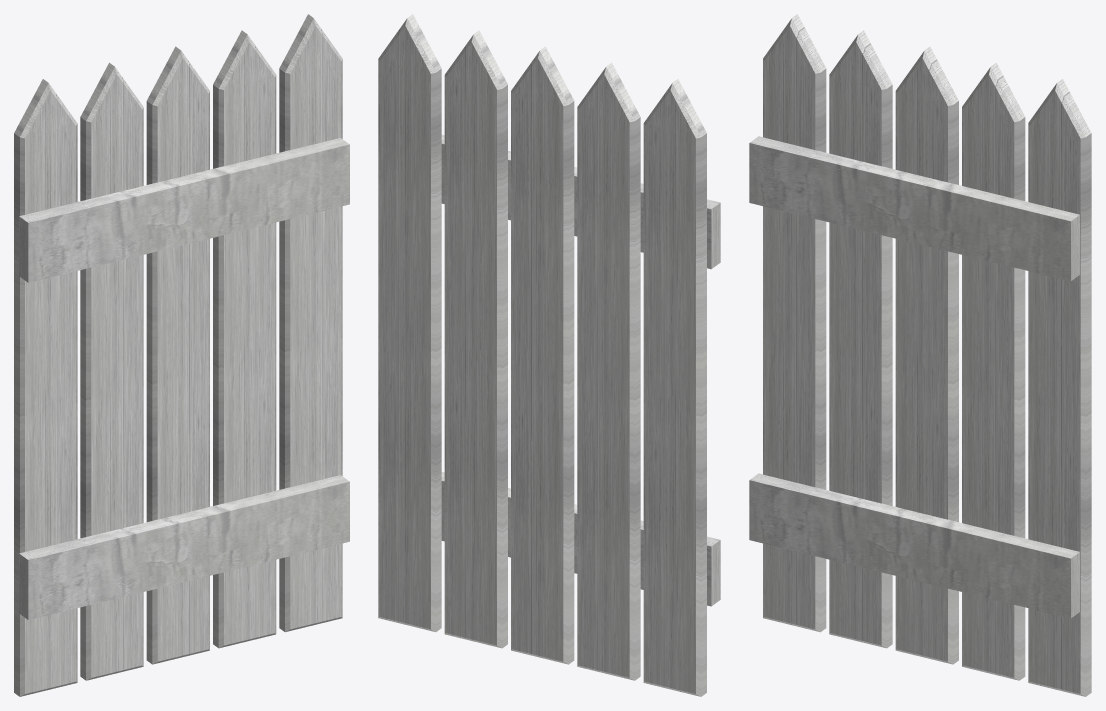
File: GardenFence2.fbx
The picture shows the model from 3 angles, left to right: view 1: azimuth 30°, elevation 25°; view 2: azimuth 150°, elevation 25°; view 3: azimuth 330°, elevation 25°; orthographic projection.
Parts seen in each view (by area): view 1: polySurface979, polySurface902, polySurface901; view 2: polySurface979, polySurface901, polySurface902; view 3: polySurface979, polySurface901, polySurface902.
Boxes of the visible parts, <box> form: polySurface979: <box>14,14,342,696</box>; polySurface902: <box>19,138,349,282</box>; polySurface901: <box>19,475,349,619</box>; polySurface979: <box>378,14,706,696</box>; polySurface901: <box>441,472,720,606</box>; polySurface902: <box>441,134,720,269</box>; polySurface979: <box>763,14,1091,696</box>; polySurface901: <box>749,473,1079,618</box>; polySurface902: <box>749,136,1079,281</box>.
Size of the model in its own units: 28.99 by 51.67 by 2.88.
